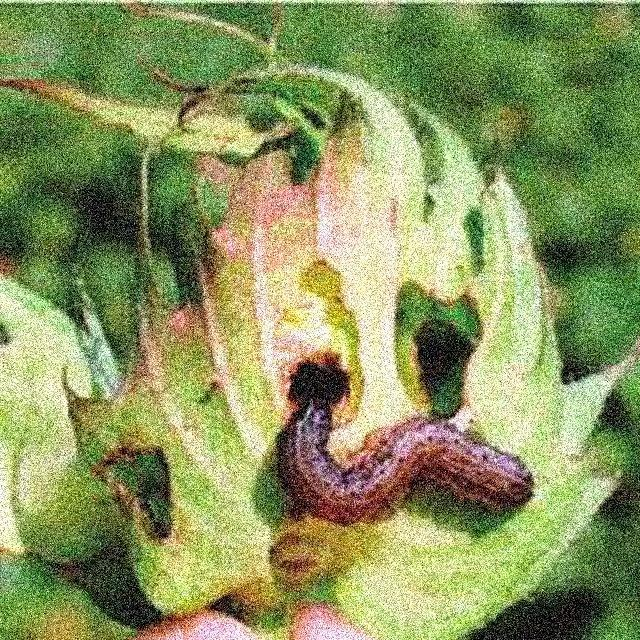Plaga: (283, 403, 536, 523)
